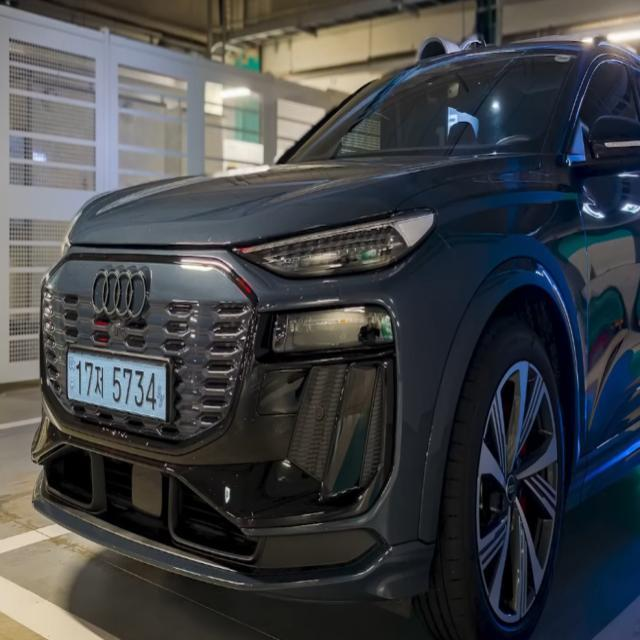car: (53, 337, 187, 435)
carev: (154, 360, 173, 423), (65, 347, 78, 402)
